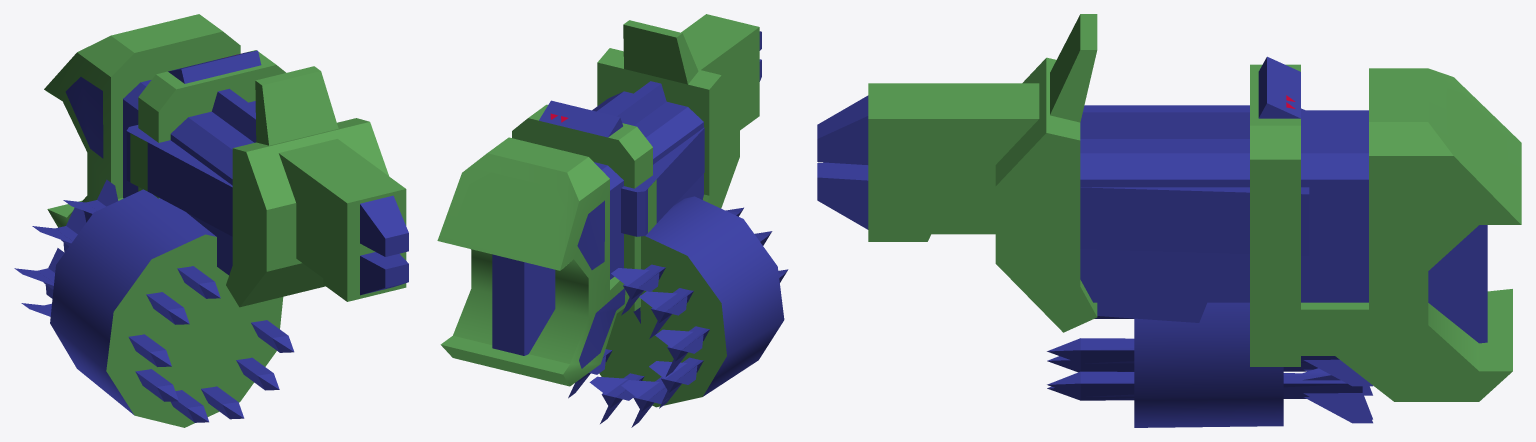
Rendered from Rivetgun LV3.obj.
3 views of the same model, side by side, from view 1: azimuth 30°, elevation 25°; view 2: azimuth 150°, elevation 25°; view 3: azimuth 270°, elevation 25° (orthographic). The views are drawn at different scales.
Parts seen in each view (by area): view 1: Rivetgun_LV3_Mesh_0294.001; view 2: Rivetgun_LV3_Mesh_0294.001; view 3: Rivetgun_LV3_Mesh_0294.001.
Part boxes in pixels (x1,y1,x2,y2): Rivetgun_LV3_Mesh_0294.001: (14, 14, 408, 427); Rivetgun_LV3_Mesh_0294.001: (437, 14, 788, 427); Rivetgun_LV3_Mesh_0294.001: (817, 14, 1521, 427).
Bounding box in the file's own units: 1.34 × 1.88 × 2.8.
